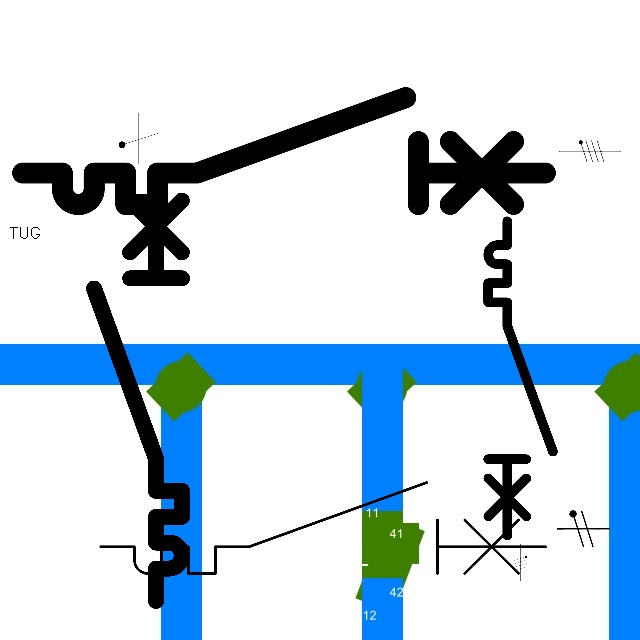interruptor_termomagnetico: (9, 84, 558, 218), (89, 471, 557, 585), (83, 163, 193, 612), (480, 213, 561, 544)
